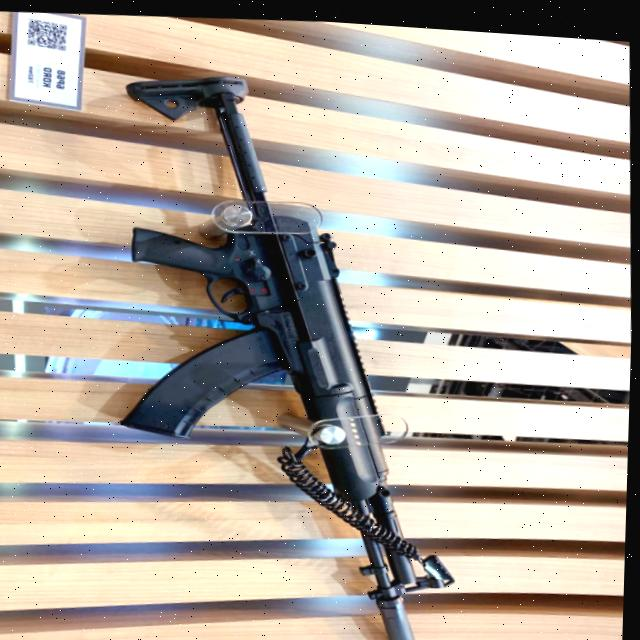firearm: (101, 56, 475, 640)
